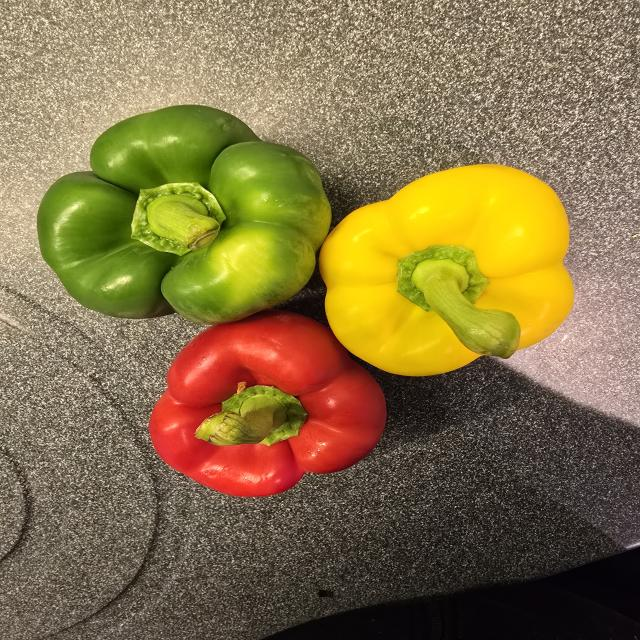Bell Pepper: (36, 105, 332, 324), (319, 164, 574, 376), (149, 311, 386, 497)
